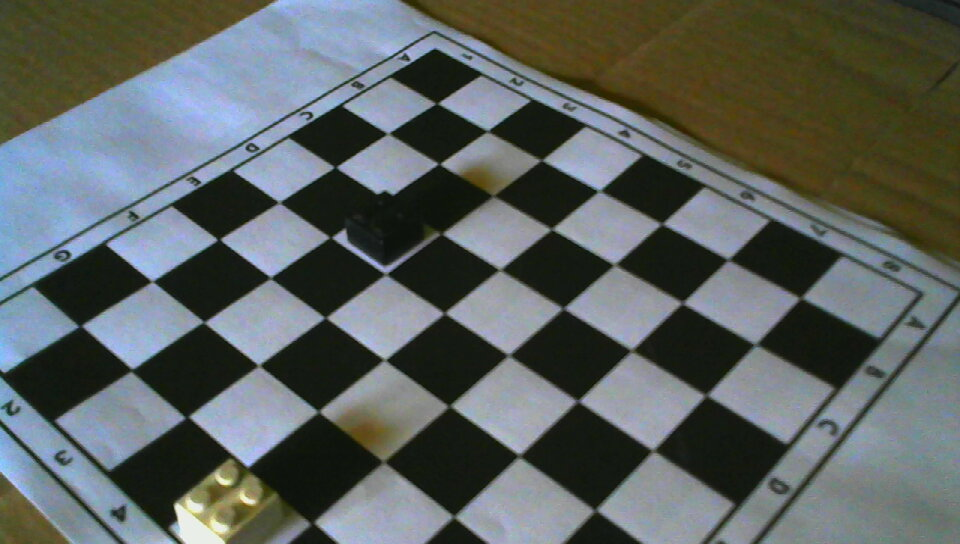bp: (346, 188, 427, 264)
wp: (173, 459, 282, 544)
